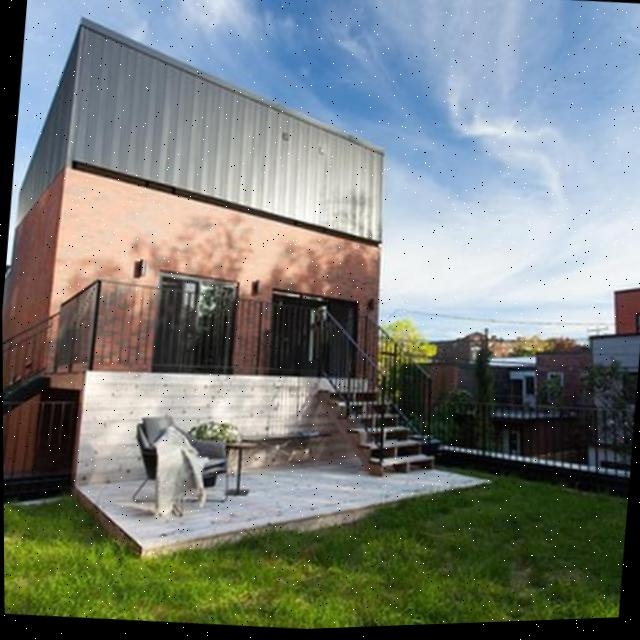building: (0, 0, 416, 485), (404, 260, 640, 474)
